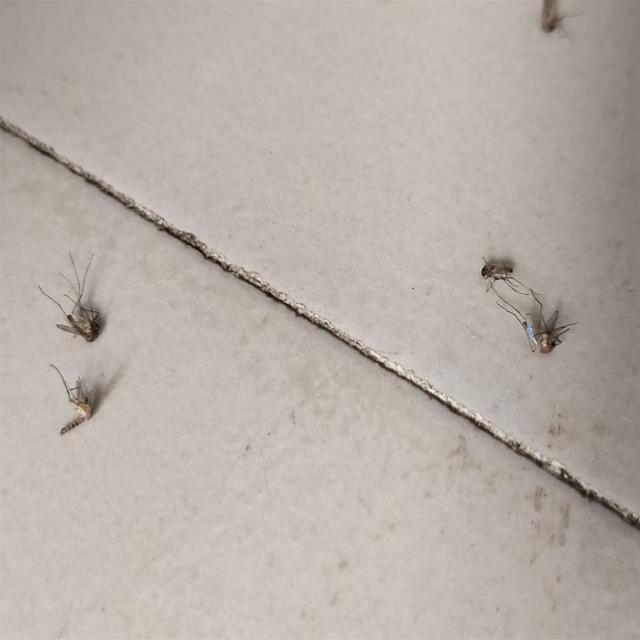Mosquito: (18, 326, 128, 456), (37, 252, 128, 358), (498, 297, 582, 384), (453, 235, 539, 316)
